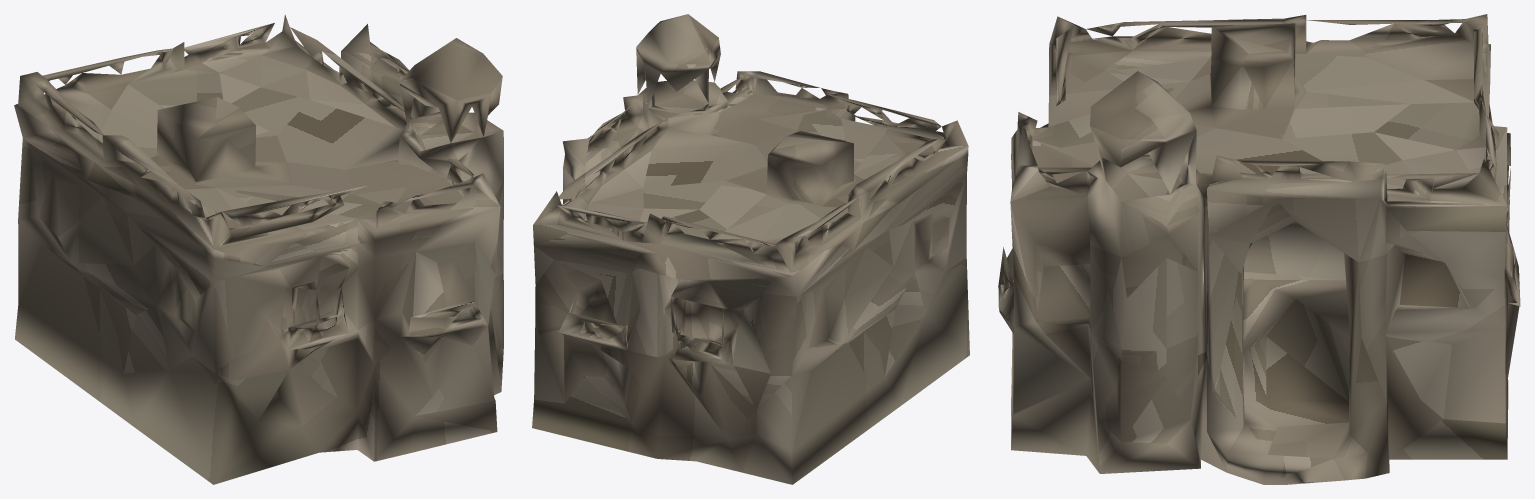
Rendered from house_noble_2_lo.glb.
3 renders of one model, left to right at view 1: azimuth 30°, elevation 25°; view 2: azimuth 150°, elevation 25°; view 3: azimuth 270°, elevation 25°, orthographic. The views are drawn at different scales.
Parts seen in each view (by area): view 1: tripo_node_f6b4daa0-9f50-4762-b463-21bb5ce32393; view 2: tripo_node_f6b4daa0-9f50-4762-b463-21bb5ce32393; view 3: tripo_node_f6b4daa0-9f50-4762-b463-21bb5ce32393.
Boxes of the visible parts, x1,y1,x2,y2 form: tripo_node_f6b4daa0-9f50-4762-b463-21bb5ce32393: [14, 14, 503, 484]; tripo_node_f6b4daa0-9f50-4762-b463-21bb5ce32393: [532, 14, 969, 484]; tripo_node_f6b4daa0-9f50-4762-b463-21bb5ce32393: [998, 14, 1520, 484].
Bounding box in the file's own units: 0.7993 × 0.794 × 0.9787.
1 material, 1 textured.
